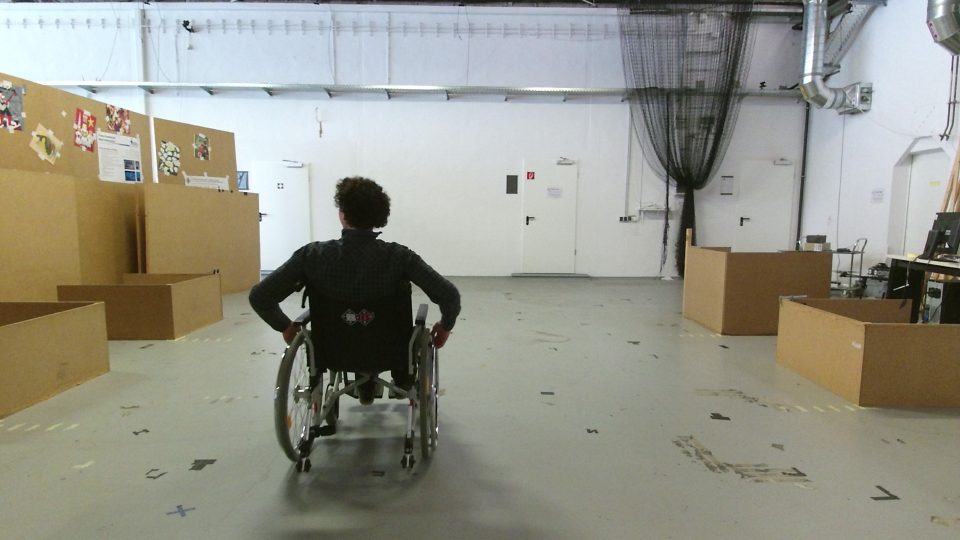wheelchair: (242, 159, 464, 493)
